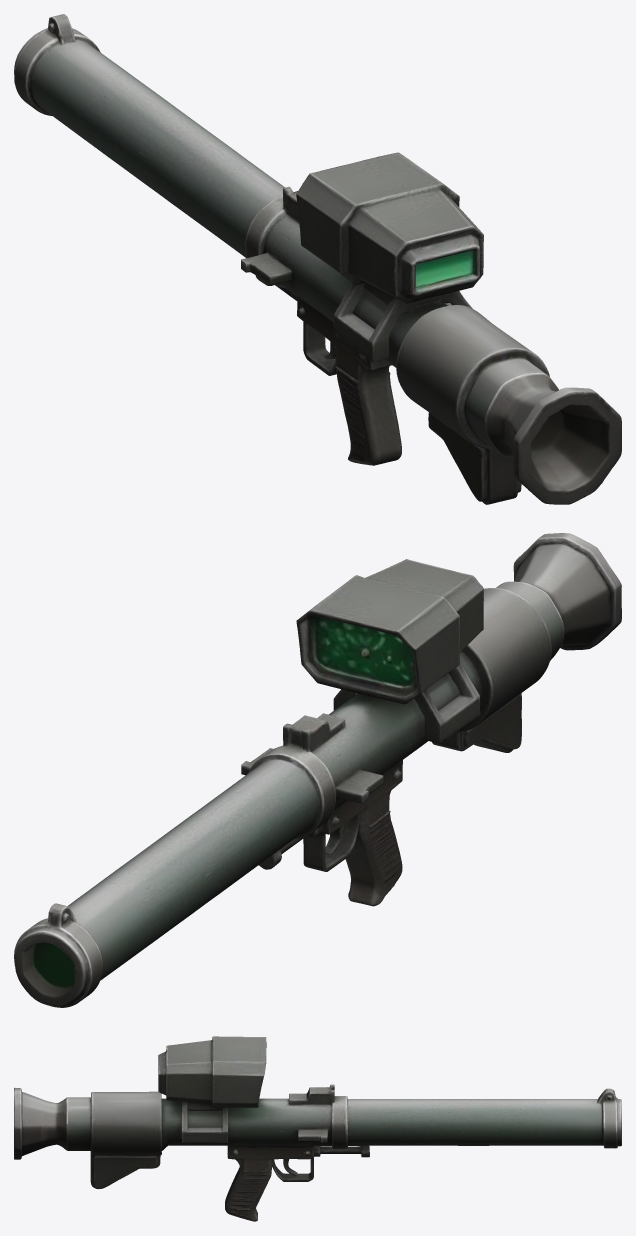
Rendered from arma_bazuca.glb.
3 renders of one model, top to bottom at view 1: azimuth 30°, elevation 25°; view 2: azimuth 150°, elevation 25°; view 3: azimuth 270°, elevation 25°, orthographic. The views are drawn at different scales.
Visible parts, largest first — view 1: tripo_node_63694bf7-1d82-40e3-b994-150304fceaaf; view 2: tripo_node_63694bf7-1d82-40e3-b994-150304fceaaf; view 3: tripo_node_63694bf7-1d82-40e3-b994-150304fceaaf.
Part boxes in pixels (x1,y1,x2,y2): tripo_node_63694bf7-1d82-40e3-b994-150304fceaaf: (14,14,621,504); tripo_node_63694bf7-1d82-40e3-b994-150304fceaaf: (14,533,621,1007); tripo_node_63694bf7-1d82-40e3-b994-150304fceaaf: (14,1036,621,1221).
Bounding box in the file's own units: 0.1355 × 0.3081 × 1.
Materials: 1 (1 with a texture image).
